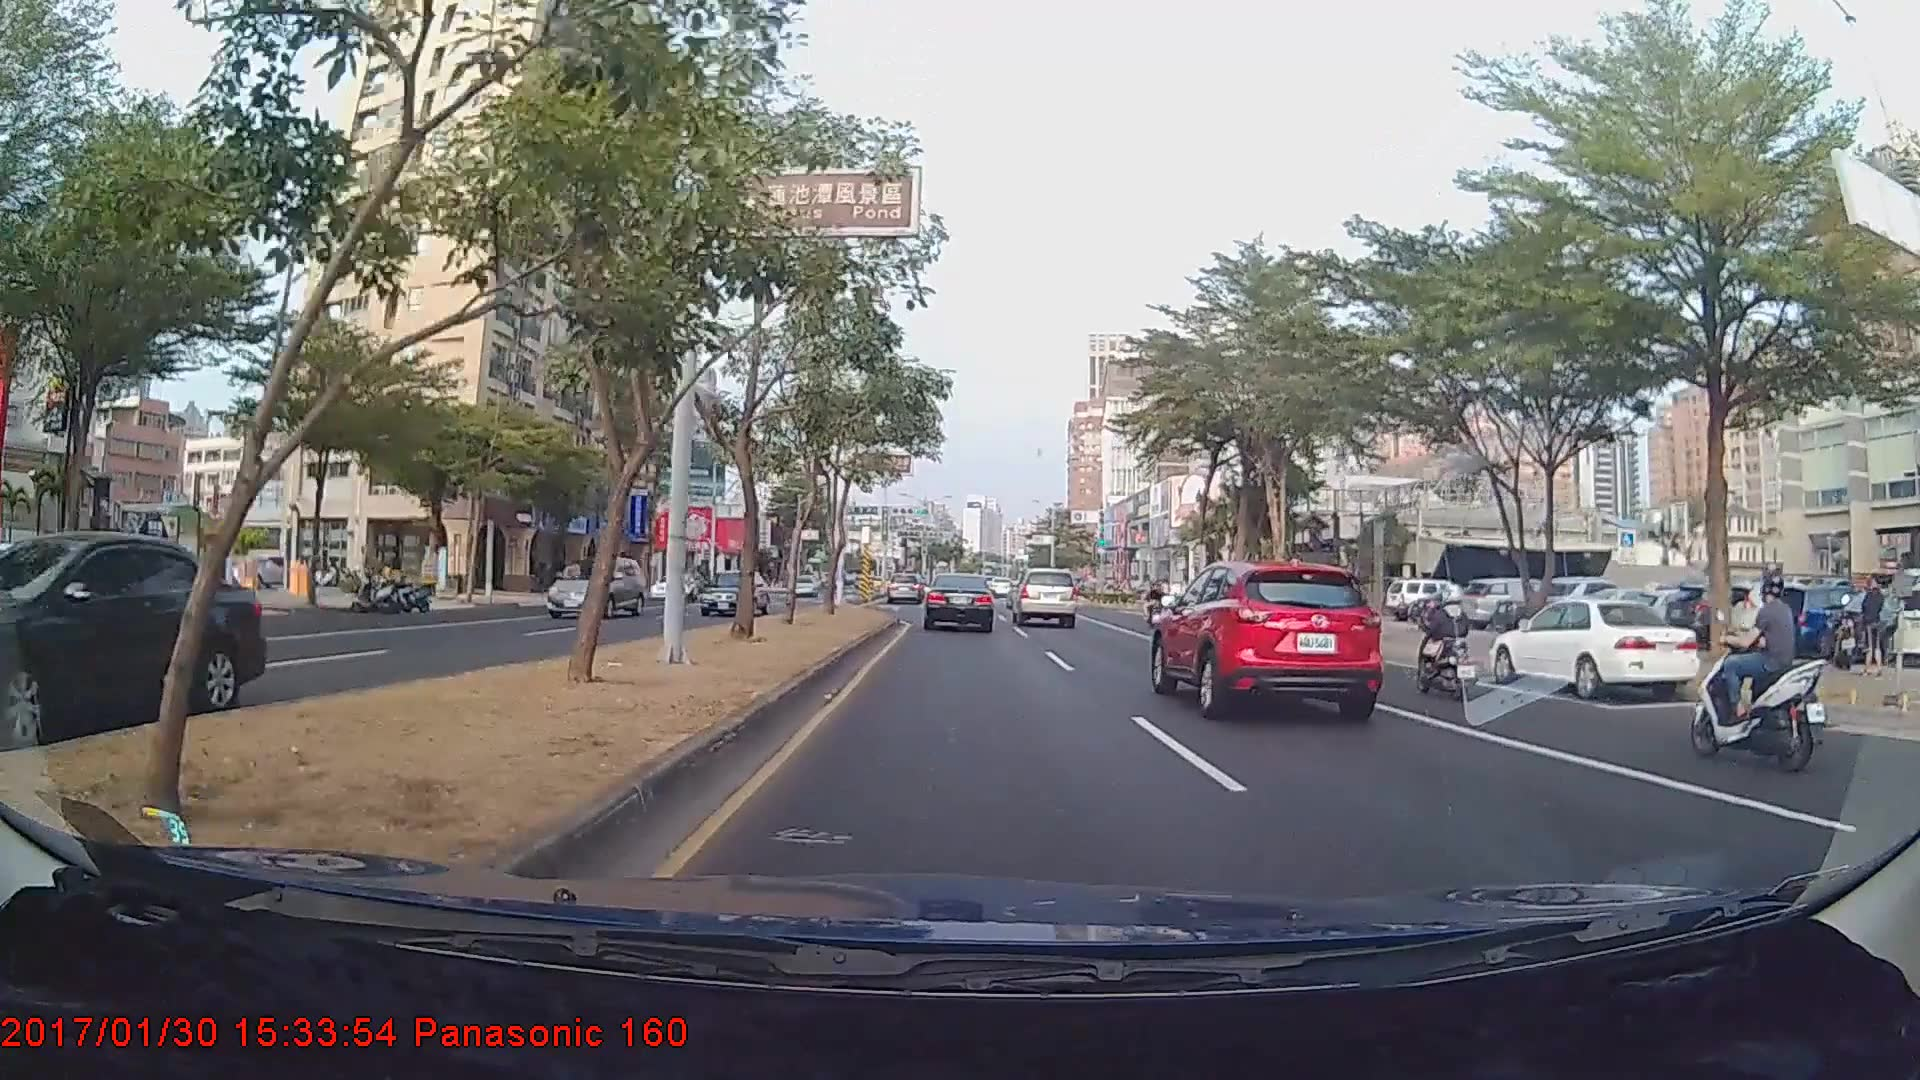pedestrian: (1858, 576, 1887, 675)
rider: (1689, 555, 1836, 777), (1403, 582, 1485, 705)
vehicle: (0, 539, 264, 740), (1148, 560, 1383, 726), (1489, 597, 1706, 700), (545, 554, 648, 619), (921, 571, 995, 633), (1010, 566, 1078, 628), (697, 567, 768, 617), (651, 572, 701, 601), (886, 572, 927, 605), (788, 576, 818, 599)
